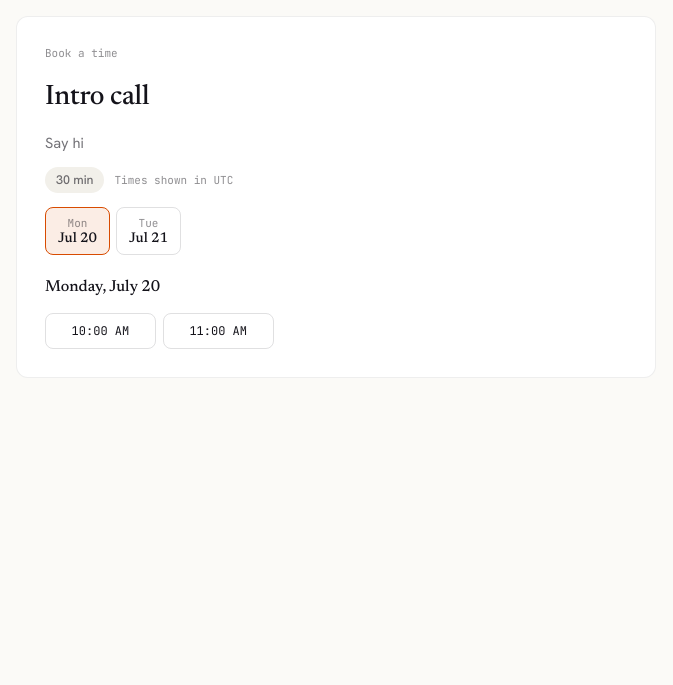
Test: <BookingPage> › replays the same client_id when a failed booking is retried
Expected: the heading "Intro call" is shown, x1=45 y1=82 x2=149 y2=110
Click the button with class "slot-btn" showing "10:00 AM" at (100, 331), box x1=45 y1=313 x2=156 y2=349
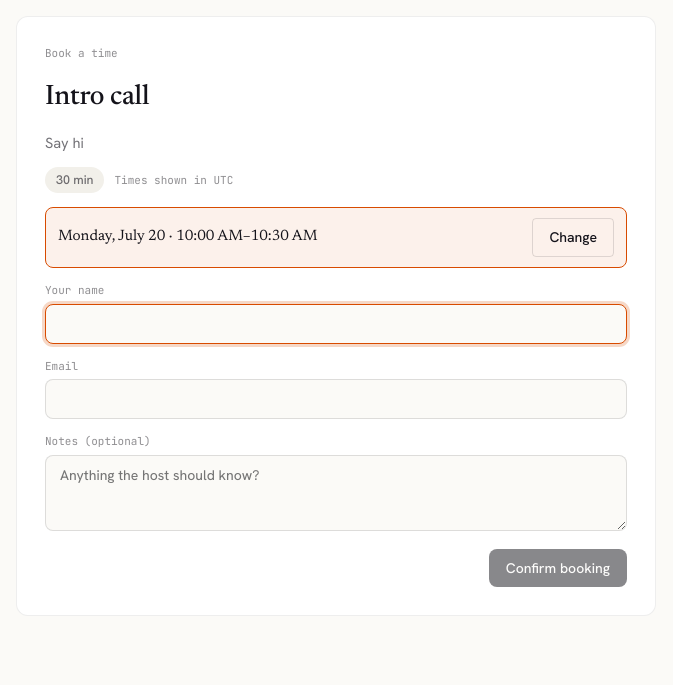
Type "Ada" into the field labelled "Your name" at (336, 324), box x1=45 y1=304 x2=627 y2=344
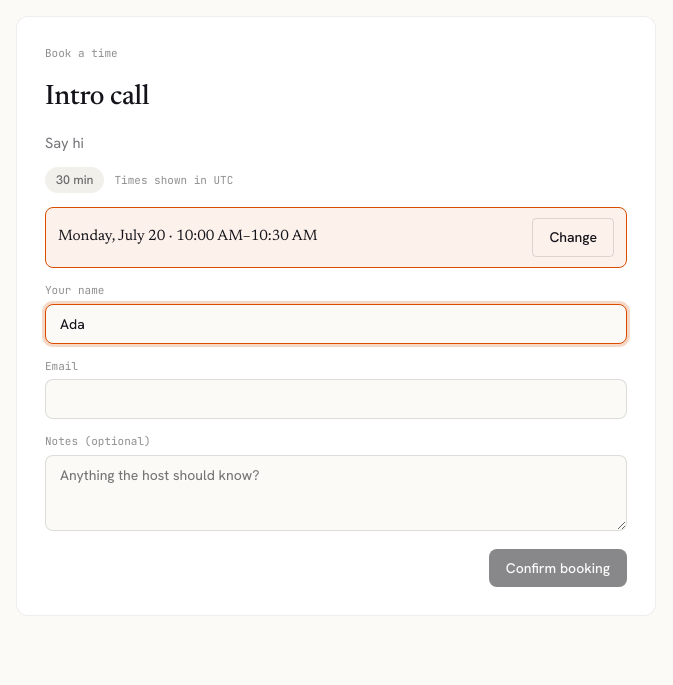
Type "ada@example.com" into the field labelled "Email" at (336, 399), box x1=45 y1=379 x2=627 y2=419
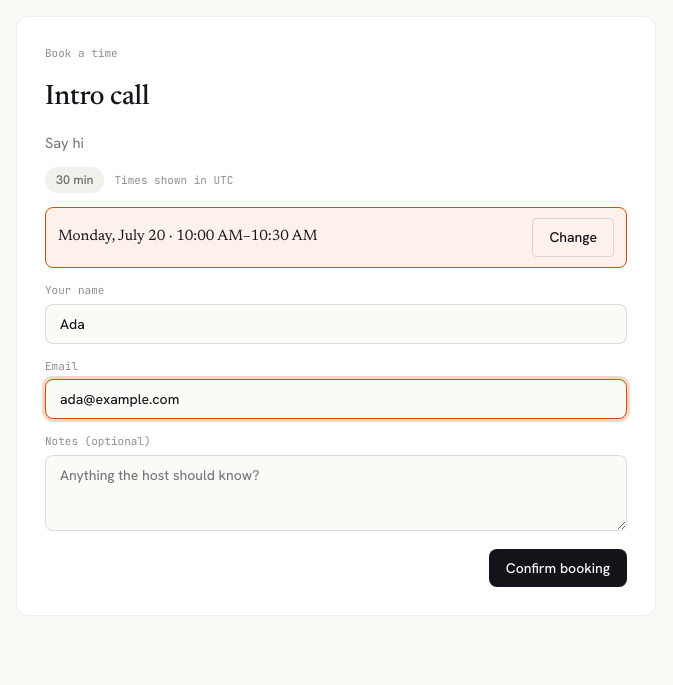
Click the button "Confirm booking" at (558, 568), box x1=489 y1=548 x2=627 y2=587
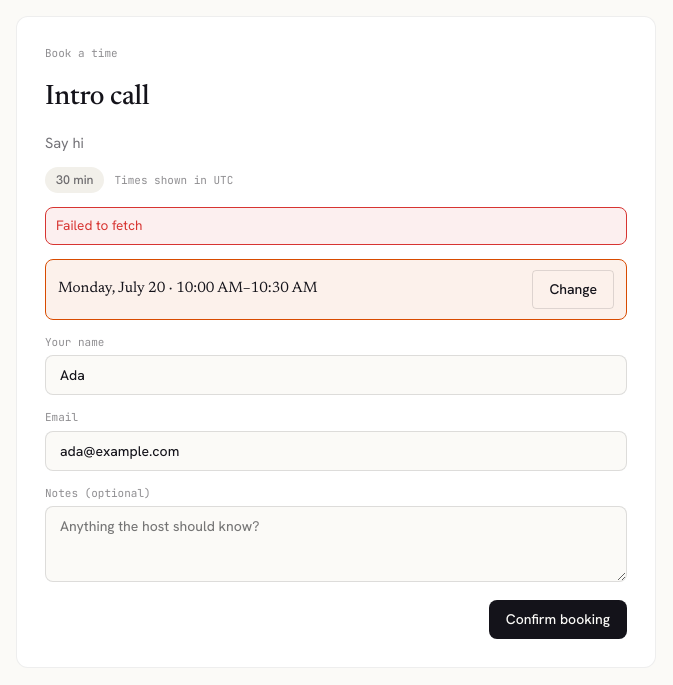
Expected: the text "Failed to fetch" is shown, x1=45 y1=207 x2=627 y2=245
Click the button "Confirm booking" at (558, 619), box x1=489 y1=600 x2=627 y2=639
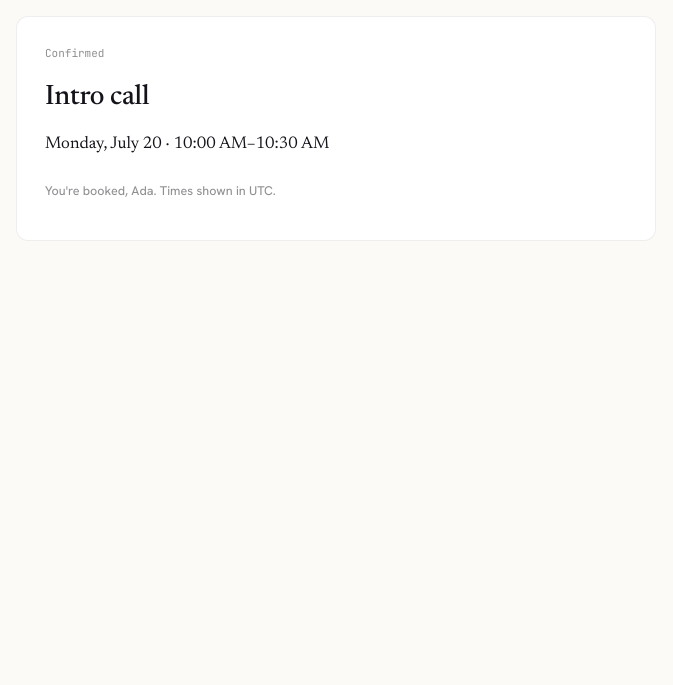
Expected: the text "You're booked, Ada. Times shown in UTC." is shown, x1=45 y1=182 x2=276 y2=199
